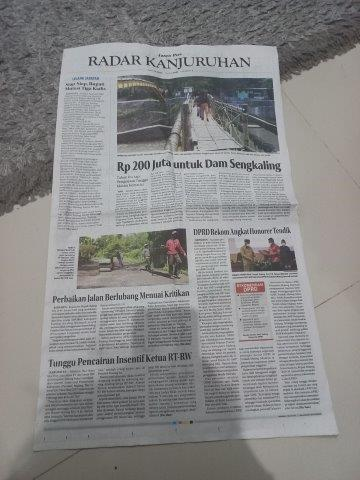kertas: (34, 43, 340, 440)
